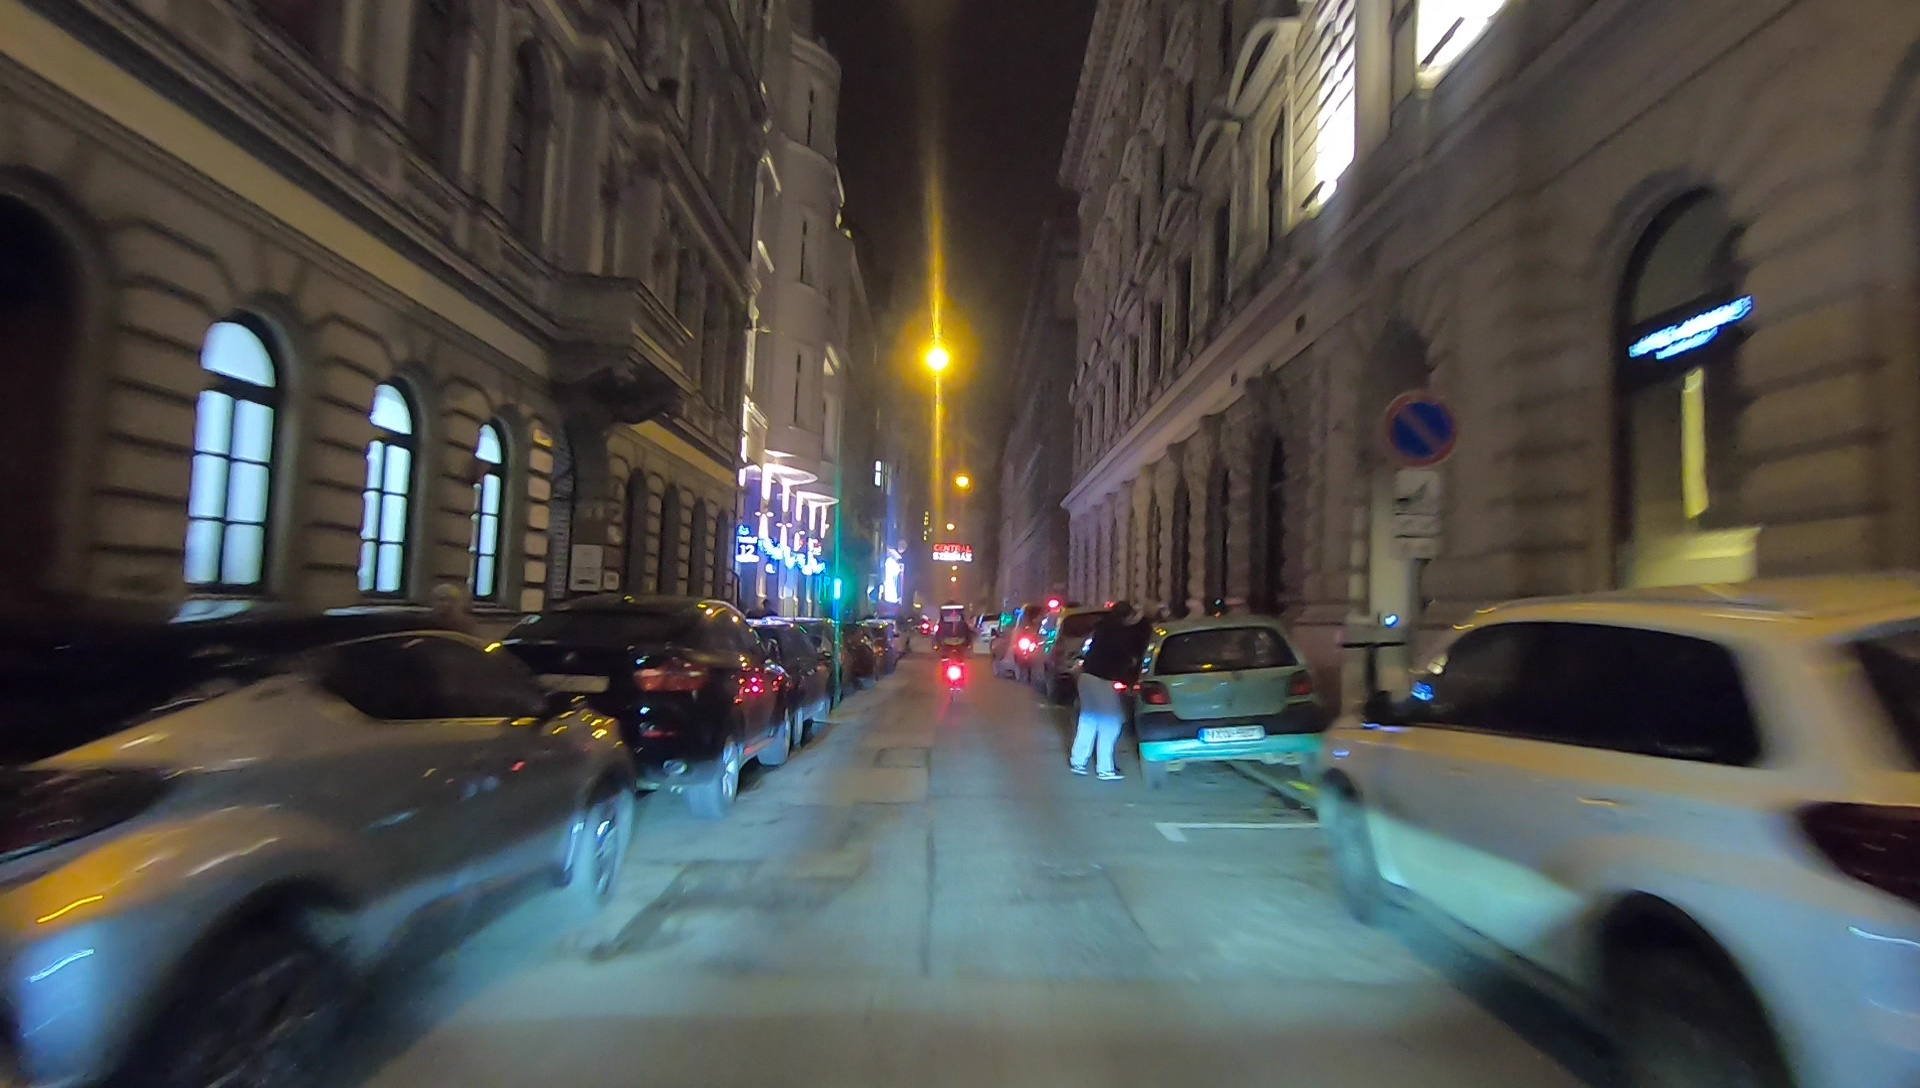person: (1064, 600, 1143, 791)
